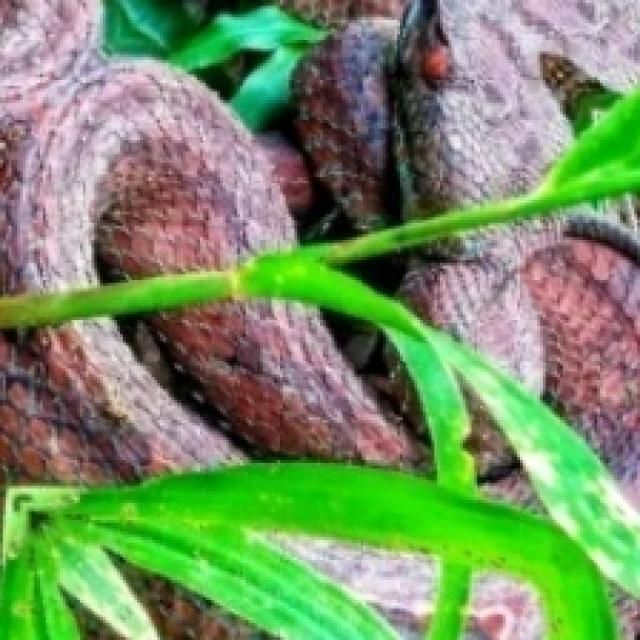philippine pitviper: (0, 0, 291, 291), (400, 217, 637, 500), (394, 0, 637, 214), (151, 300, 411, 463), (0, 320, 240, 480), (451, 369, 551, 520)
